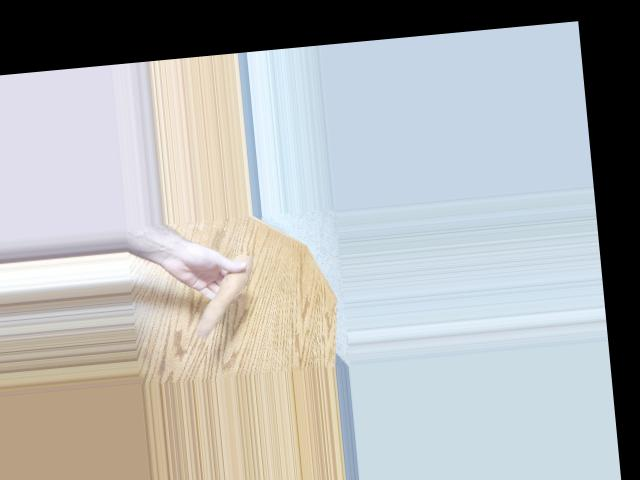sweet_potato: (187, 254, 255, 338)
